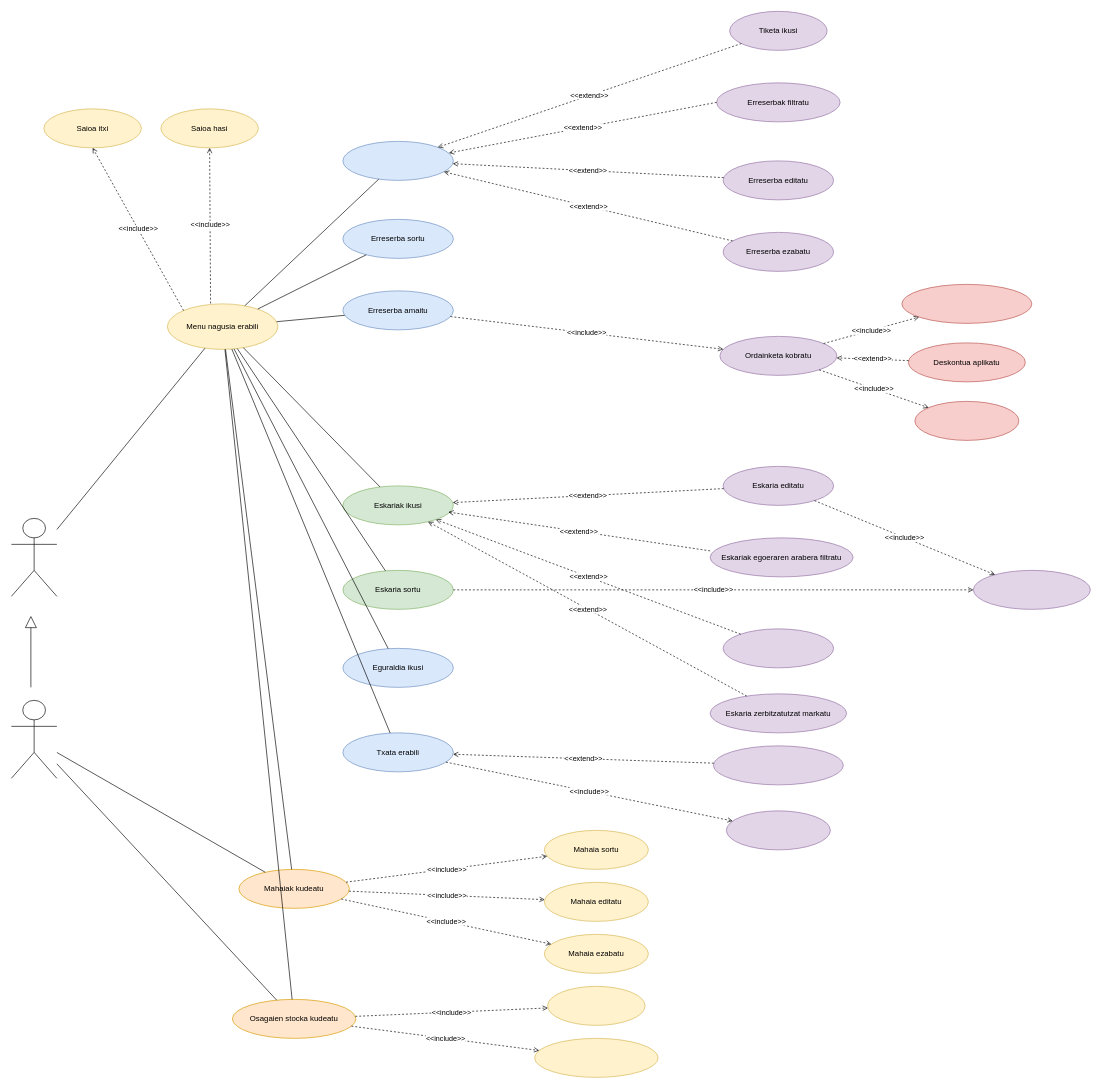
Image size: 1102x1089. Some labels were removed from this diagram. Each missing label, with the centre of its shape:
"Erreserbak ikusi" belongs at point 397,160.
"Eskaria ezabatu" belongs at point 778,648.
"Fitxategia bidali, ikusi edo gorde" belongs at point 778,765.
"Gerentea" belongs at point 34,739.
"Langilea" belongs at point 34,557.
"Mezua bidali" belongs at point 778,830.
"Ordainketa modua aukeratu" belongs at point 966,303.
"Produktuak aukeratu" belongs at point 1031,589.
"Stock erreala eguneratu" belongs at point 596,1057.
"Stocka ikusi" belongs at point 596,1005.
"Tiketa sortu" belongs at point 966,420.
